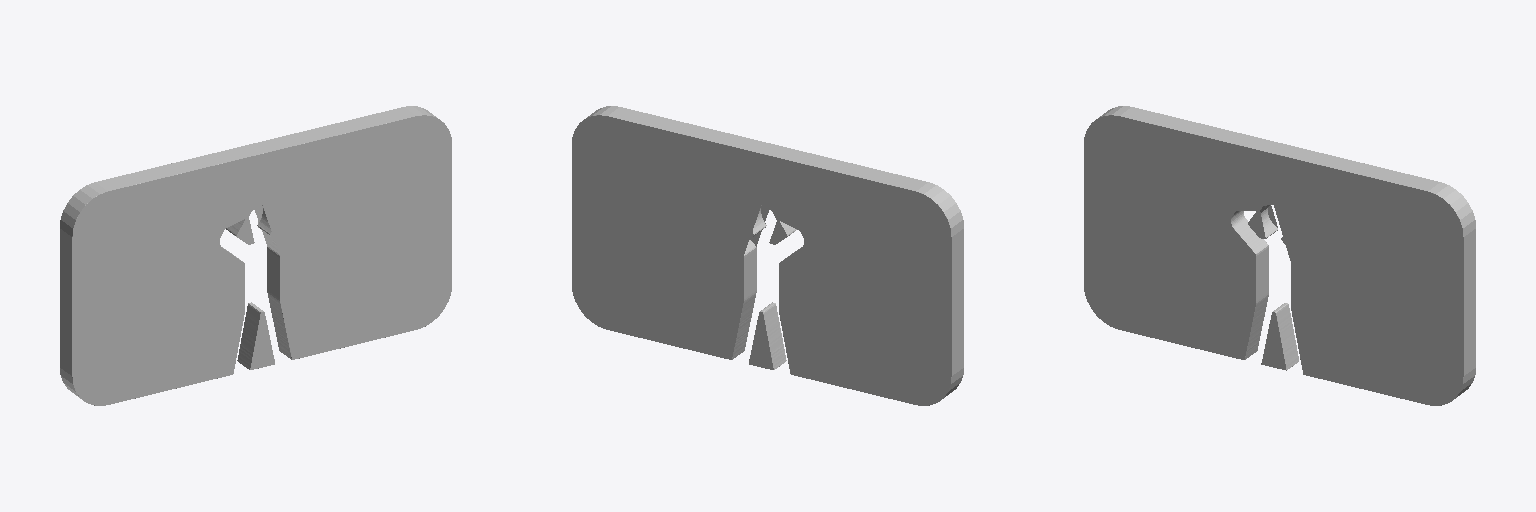
The picture shows the model from 3 angles: view 1: azimuth 30°, elevation 25°; view 2: azimuth 150°, elevation 25°; view 3: azimuth 330°, elevation 25°; orthographic projection.
Parts seen in each view (by area): view 1: POSE6; view 2: POSE6; view 3: POSE6.
Boxes of the visible parts, <box> form: POSE6: <box>60,106,451,405</box>; POSE6: <box>572,106,963,405</box>; POSE6: <box>1084,106,1475,405</box>.
Bounding box in the file's own units: 12 × 6.45 × 0.7.